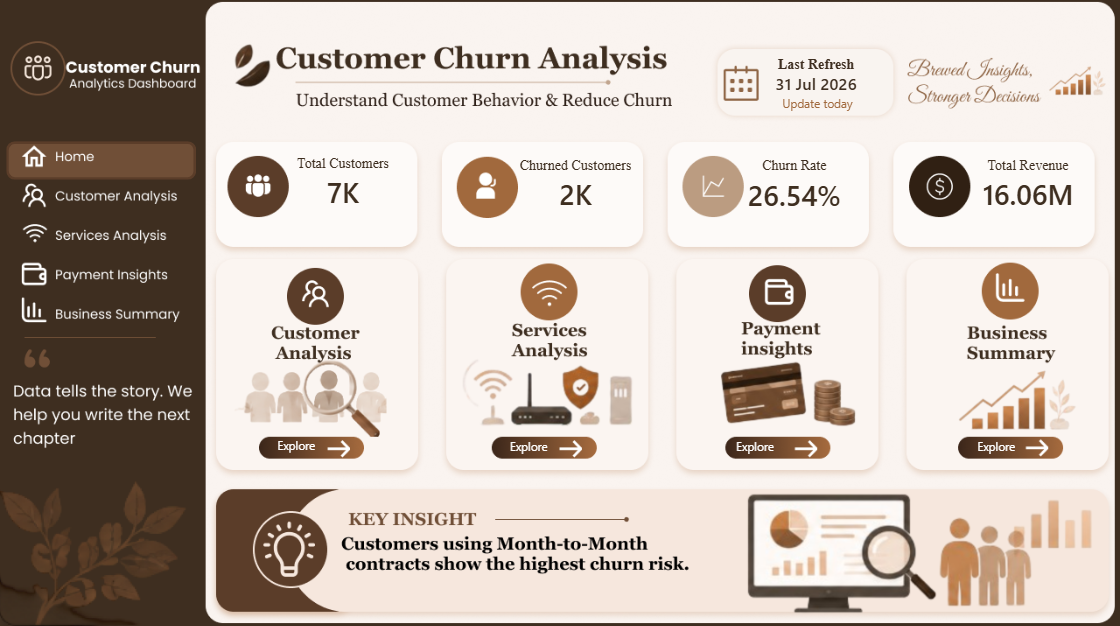

The page's visual inventory and layout, read from the dashboard file:
{"tool":"powerbi","page":{"name":"Page 1","canvas":[1280,720],"ordinal":0},"visuals":[{"type":"cardVisual","fields":{"Data":["dax.Total Customers"]},"box":[288.6,150,207.8,119.7],"z":0},{"type":"cardVisual","fields":{"Data":["dax.Churned Customers"]},"box":[554,151.5,207.8,119.7],"z":1000},{"type":"cardVisual","fields":{"Data":["dax.Churn Rate"]},"box":[803.6,158.7,207.5,107.4],"z":2000},{"type":"cardVisual","fields":{"Data":["dax.Total Revenue"]},"box":[1072,151.5,207.8,119.7],"z":3000},{"type":"cardVisual","fields":{"Data":["dax.Last Refresh"]},"box":[854.1,47.6,157.3,77.9],"z":4000},{"type":"textbox","box":[877.2,103.9,114,43.3],"z":5000},{"type":"actionButton","box":[7,162,217,44],"z":6000},{"type":"actionButton","box":[7.2,204.9,216.4,41.8],"z":7000},{"type":"actionButton","box":[7.2,291.4,216.4,44.7],"z":8000},{"type":"actionButton","box":[13,336.2,203.4,43.3],"z":9000},{"type":"actionButton","box":[313.1,494.9,79.4,28.9],"z":10000},{"type":"actionButton","box":[836.8,496.3,79.4,28.9],"z":11000},{"type":"actionButton","box":[578.5,496.3,79.4,28.9],"z":12000},{"type":"actionButton","box":[1112.4,496.3,79.4,28.9],"z":13000}]}

Visuals, with their boxes in screenshot pixels (x1, y1, x2, y2), scaled from the page's 1280x720 canvas onto the 1120x626 screenshot:
cardVisual - dax.Total Customers: locate(253, 130, 434, 234)
cardVisual - dax.Churned Customers: locate(485, 132, 667, 236)
cardVisual - dax.Churn Rate: locate(703, 138, 885, 231)
cardVisual - dax.Total Revenue: locate(938, 132, 1119, 236)
cardVisual - dax.Last Refresh: locate(747, 41, 885, 109)
textbox: locate(768, 90, 867, 128)
actionButton: locate(6, 141, 196, 179)
actionButton: locate(6, 178, 196, 214)
actionButton: locate(6, 253, 196, 292)
actionButton: locate(11, 292, 189, 330)
actionButton: locate(274, 430, 343, 455)
actionButton: locate(732, 432, 802, 457)
actionButton: locate(506, 432, 576, 457)
actionButton: locate(973, 432, 1043, 457)
